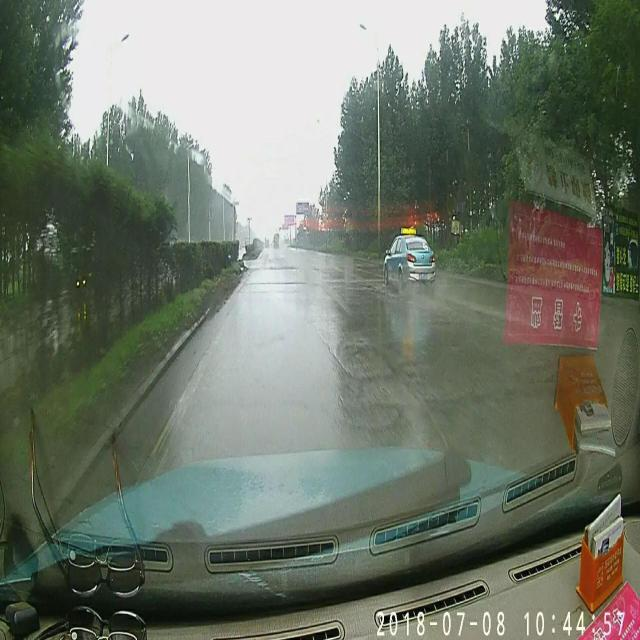car: (382, 225, 435, 282)
